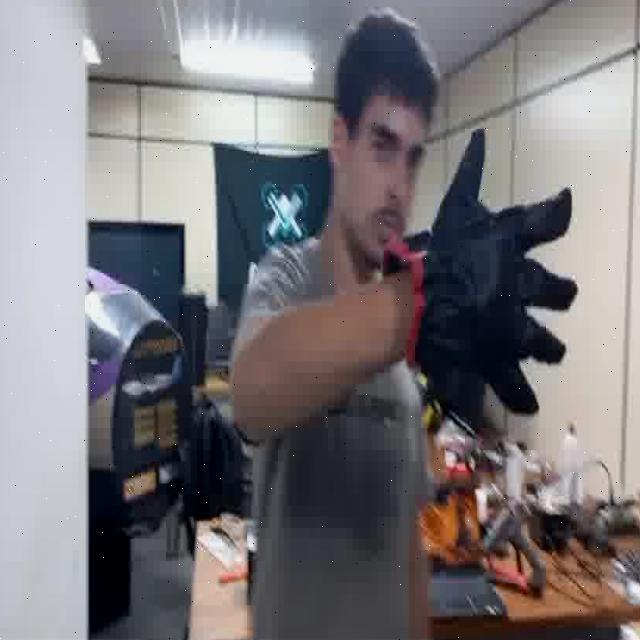Gloves: (384, 128, 577, 415)
